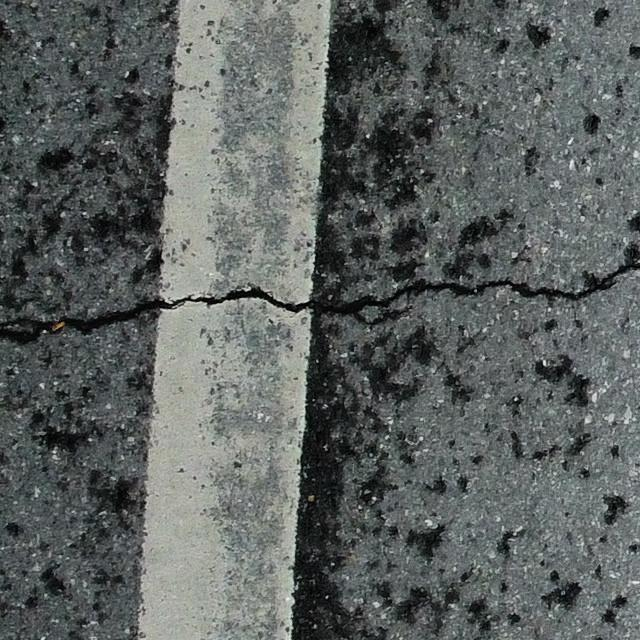TransverseCrack: (1, 254, 640, 346)
